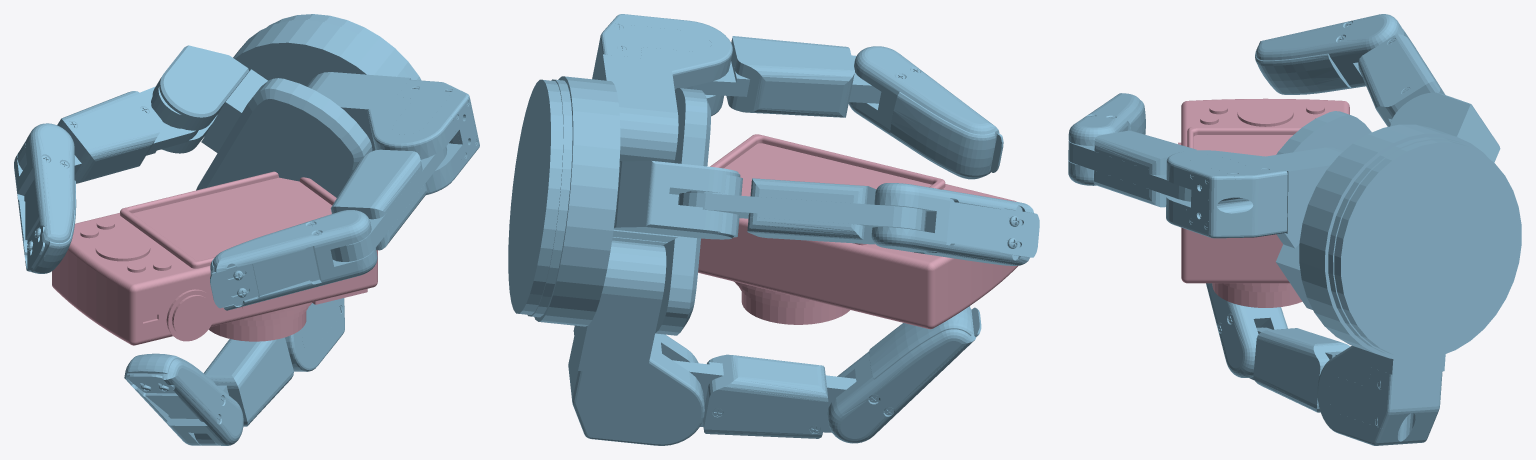
3 views of the same model, side by side, from view 1: azimuth 30°, elevation 25°; view 2: azimuth 150°, elevation 25°; view 3: azimuth 270°, elevation 25° (orthographic). The views are drawn at different scales.
Parts seen in each view (by area): view 1: world, camera.stl; view 2: world, camera.stl; view 3: world, camera.stl.
Part boxes in pixels (<box>): world: <box>14,14,479,445</box>; camera.stl: <box>52,171,377,345</box>; world: <box>508,14,1039,445</box>; camera.stl: <box>698,134,1018,329</box>; world: <box>1068,14,1521,445</box>; camera.stl: <box>1178,98,1349,307</box>.
Bounding box in the file's own units: 0.2009 × 0.1415 × 0.1741.
